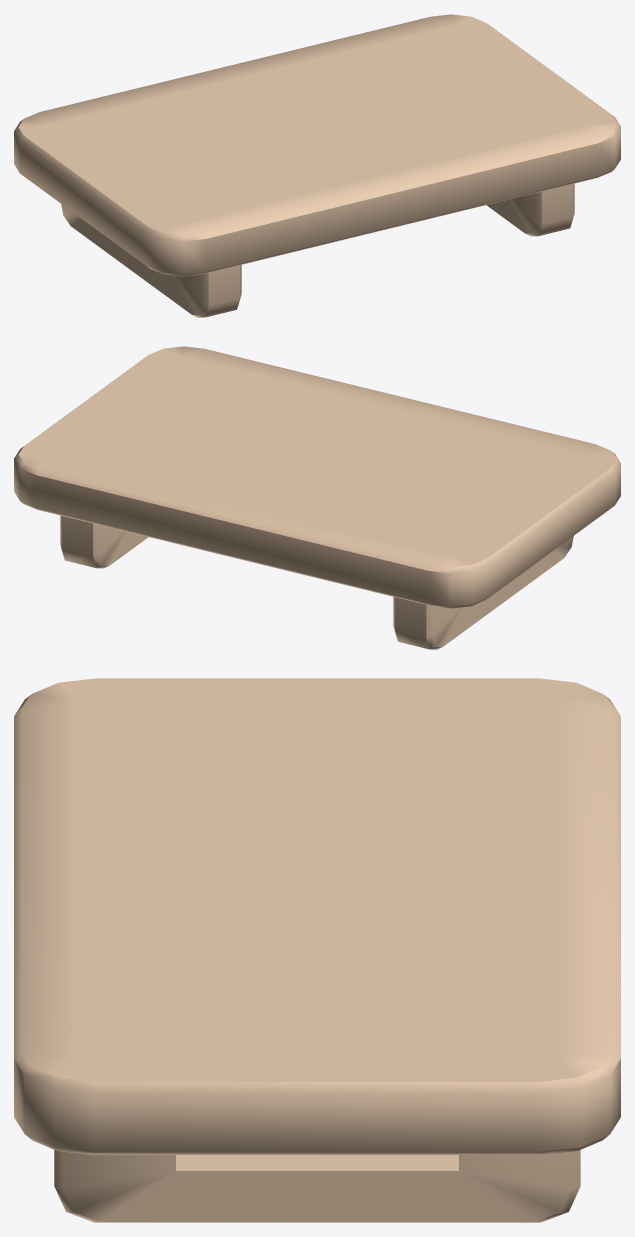
Rendered from cs-04-coffee-table.glb.
3 views of the same model, one above another, from view 1: azimuth 30°, elevation 25°; view 2: azimuth 150°, elevation 25°; view 3: azimuth 270°, elevation 25° (orthographic). The views are drawn at different scales.
Visible parts, largest first — view 1: table_low; view 2: table_low; view 3: table_low.
Boxes of the visible parts, left/top/right/bottom form: table_low: left=14, top=14, right=620, bottom=317; table_low: left=14, top=346, right=620, bottom=649; table_low: left=14, top=678, right=620, bottom=1222.
Bounding box in the file's own units: 2.11 × 0.44 × 1.32.
